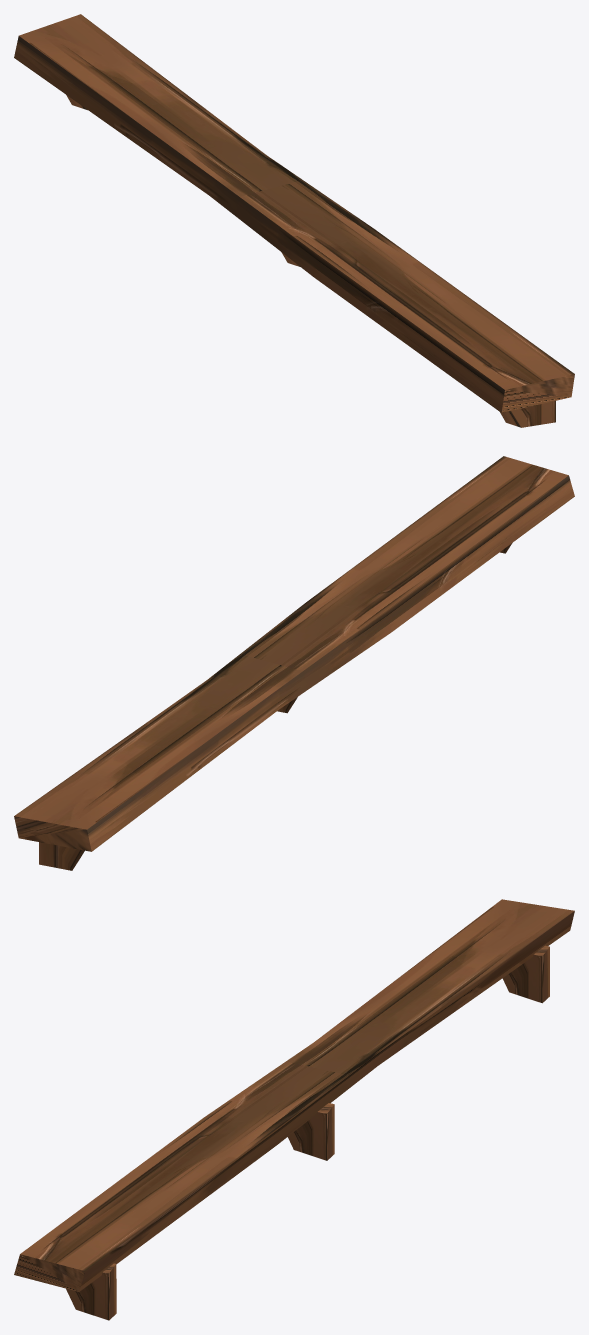
Rendered from Wall_Shelf_2.fbx.
The picture shows the model from 3 angles, top to bottom: view 1: azimuth 30°, elevation 25°; view 2: azimuth 150°, elevation 25°; view 3: azimuth 330°, elevation 25°; orthographic projection.
Visible parts, largest first — view 1: 1_Wall_Shelf_2; view 2: 1_Wall_Shelf_2; view 3: 1_Wall_Shelf_2.
Boxes of the visible parts, x1,y1,x2,y2 form: 1_Wall_Shelf_2: [14, 14, 574, 427]; 1_Wall_Shelf_2: [14, 456, 574, 870]; 1_Wall_Shelf_2: [14, 899, 574, 1320].
Bounding box in the file's own units: 35.46 × 29.6 × 395.
